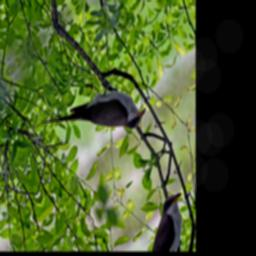Cuckoo: (40, 42, 150, 192)
